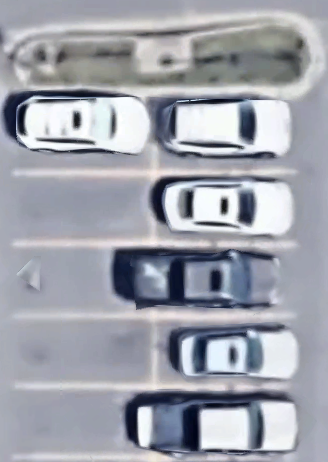Occupied: (155, 90, 298, 174), (14, 90, 154, 172), (151, 385, 293, 458), (153, 244, 293, 318), (152, 315, 291, 389), (153, 174, 294, 244)
Vacant: (12, 243, 154, 318), (13, 171, 153, 245), (12, 316, 154, 386), (12, 385, 152, 456)
